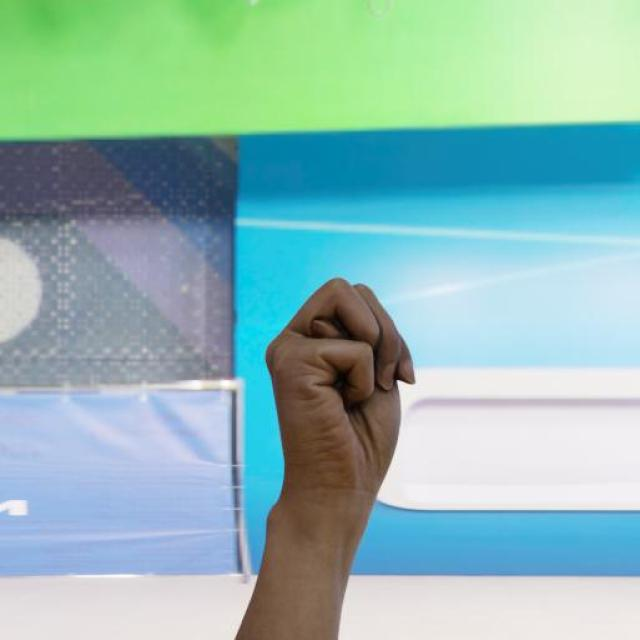M: (261, 276, 420, 500)
